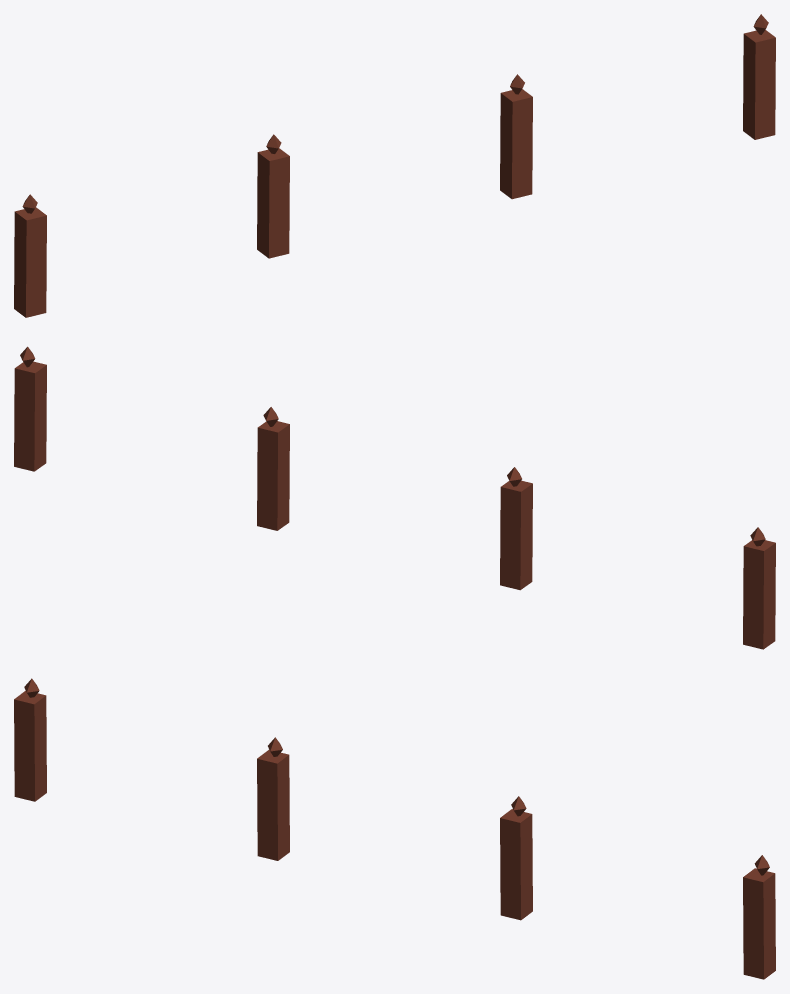
Rendered from libsupports_3.fbx.
The picture shows the model from 3 angles, top to bottom: view 1: azimuth 30°, elevation 25°; view 2: azimuth 150°, elevation 25°; view 3: azimuth 330°, elevation 25°; orthographic projection.
Parts seen in each view (by area): view 1: StairRail_Decor.012; view 2: StairRail_Decor.012; view 3: StairRail_Decor.012.
Boxes of the visible parts, x1,y1,x2,y2 form: StairRail_Decor.012: (14, 14, 775, 317); StairRail_Decor.012: (14, 346, 775, 649); StairRail_Decor.012: (14, 678, 775, 979).
Bounding box in the file's own units: 3076 × 465 × 89.64.
